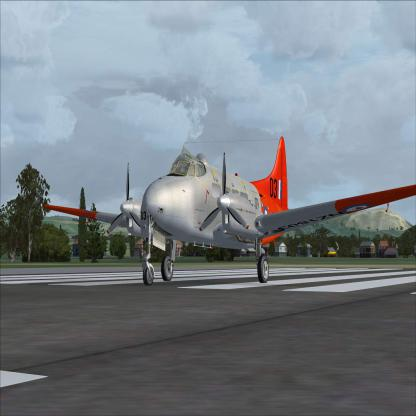CIV_Plane: (35, 138, 415, 296)
